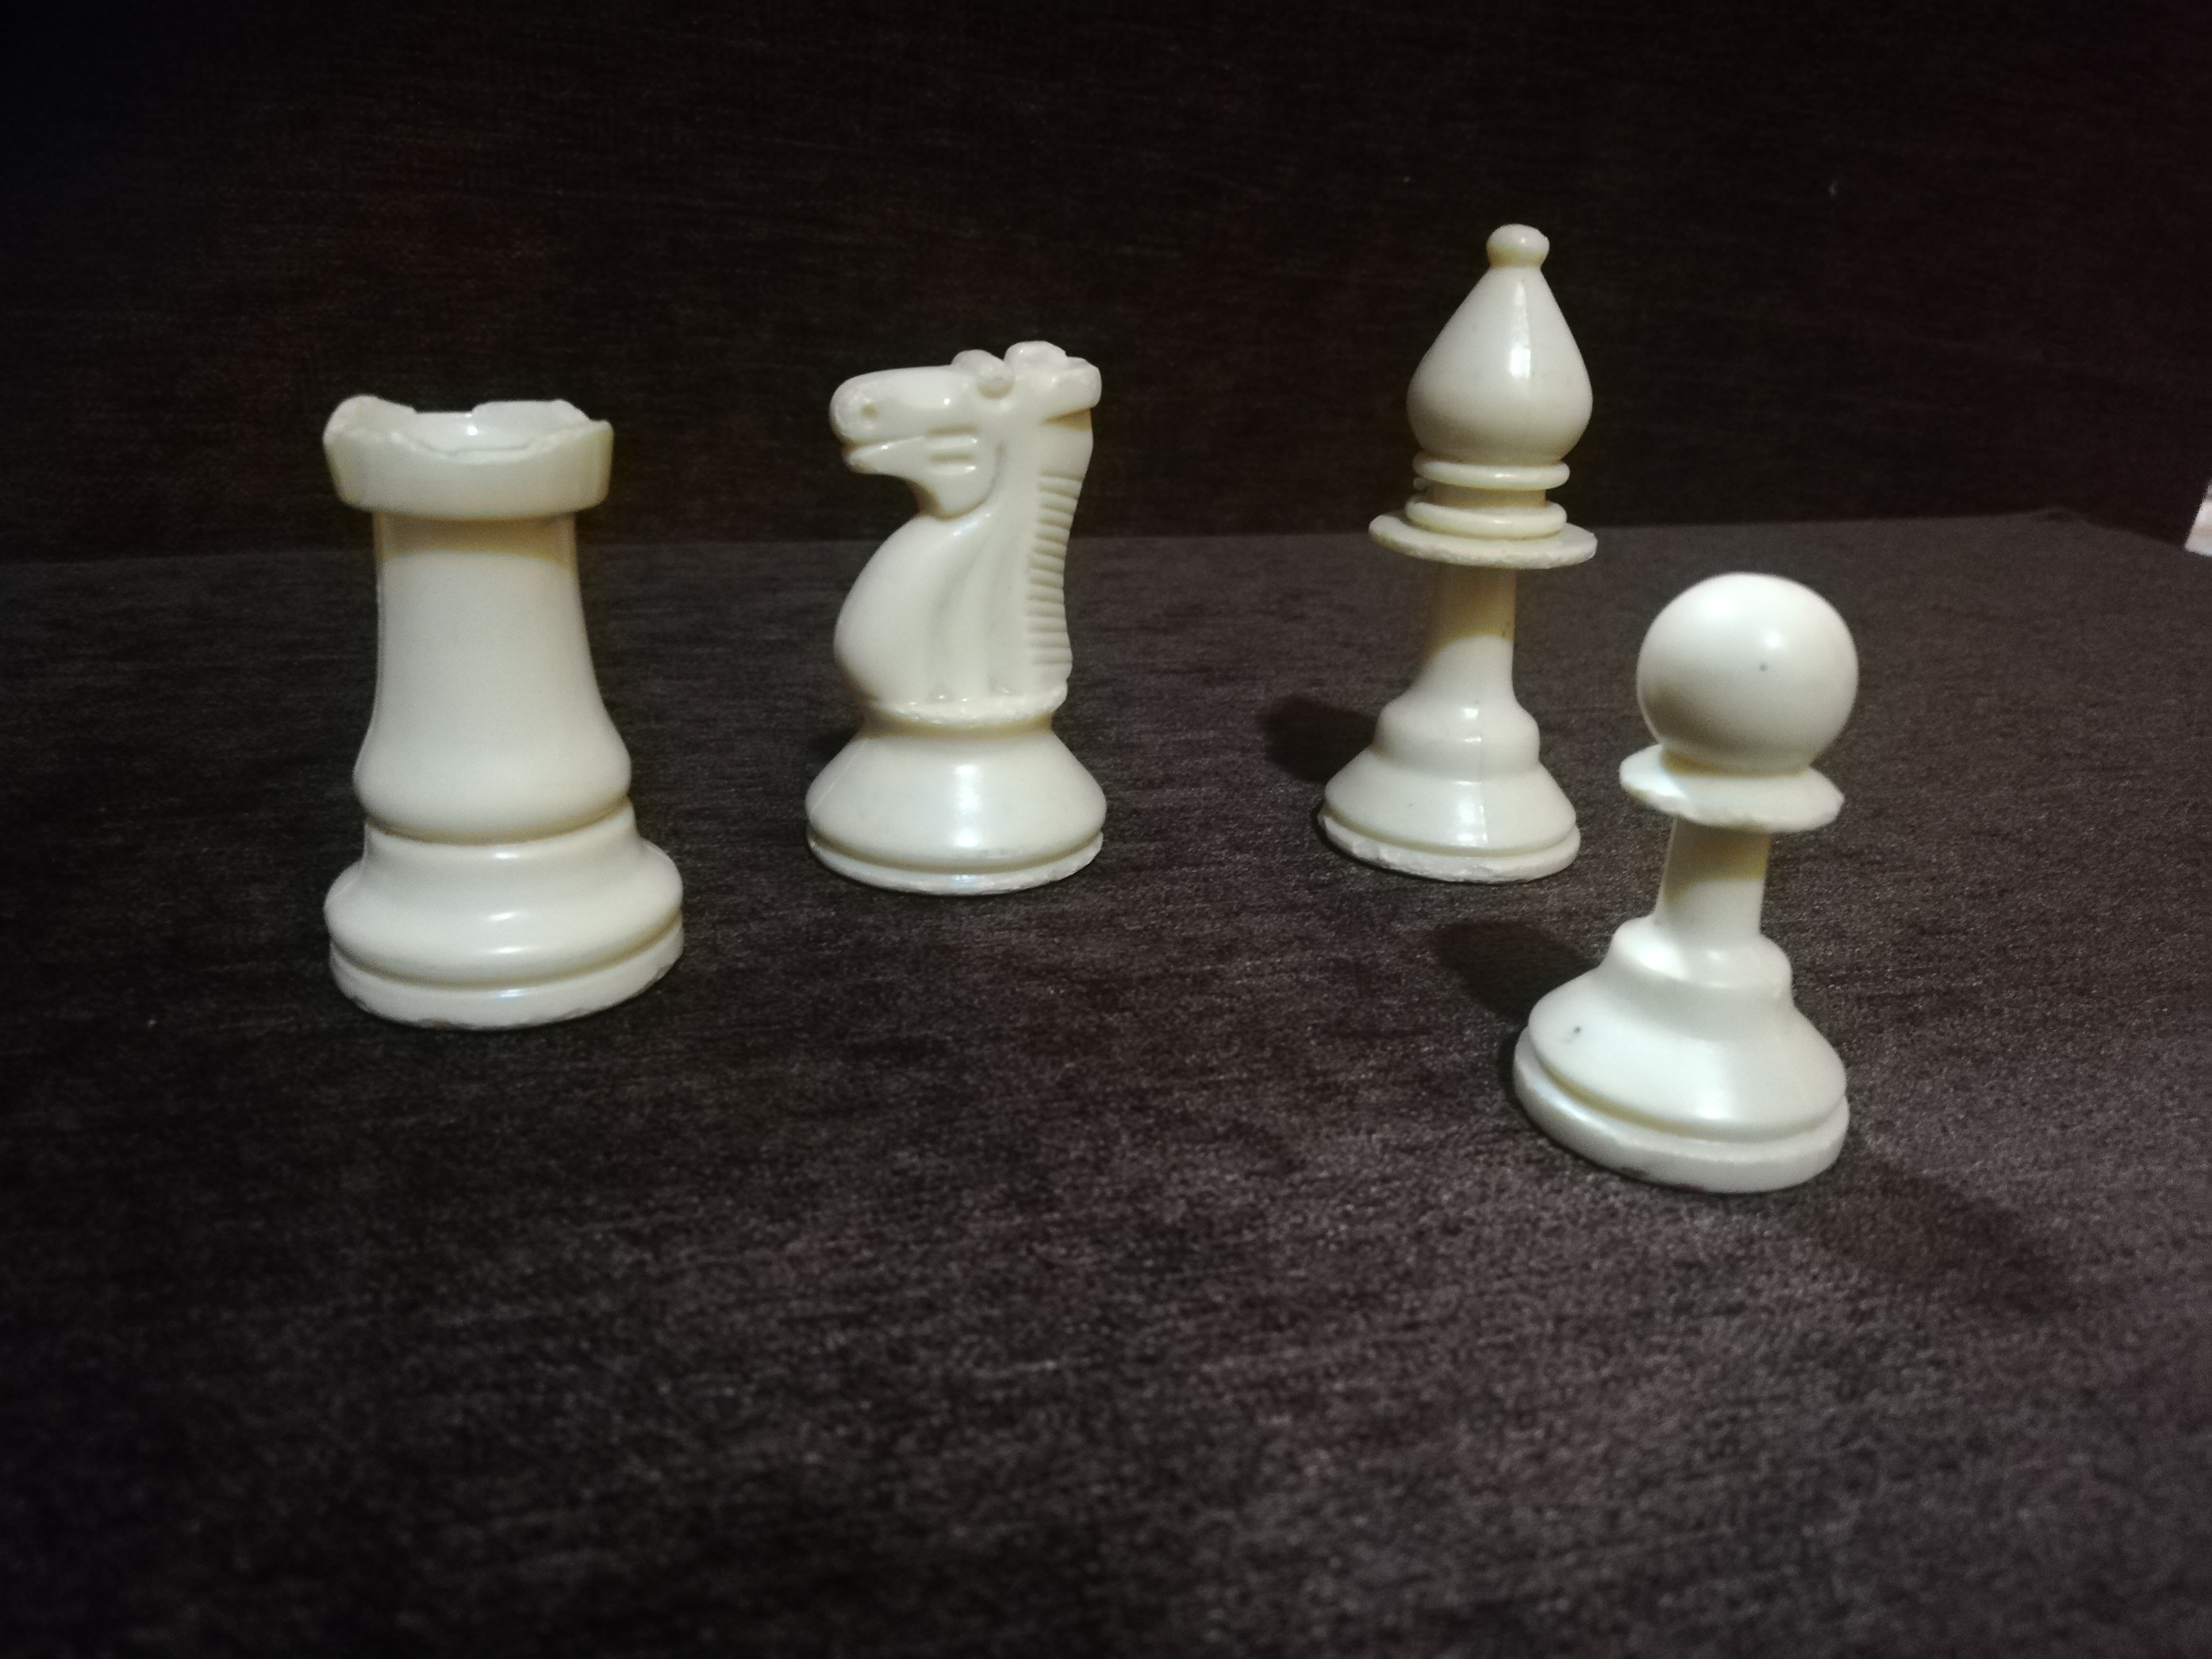Bishop: (1327, 182, 1594, 881)
Knight: (808, 333, 1142, 888)
Pawn: (1515, 573, 1932, 1244)
Rook: (310, 383, 687, 1028)
